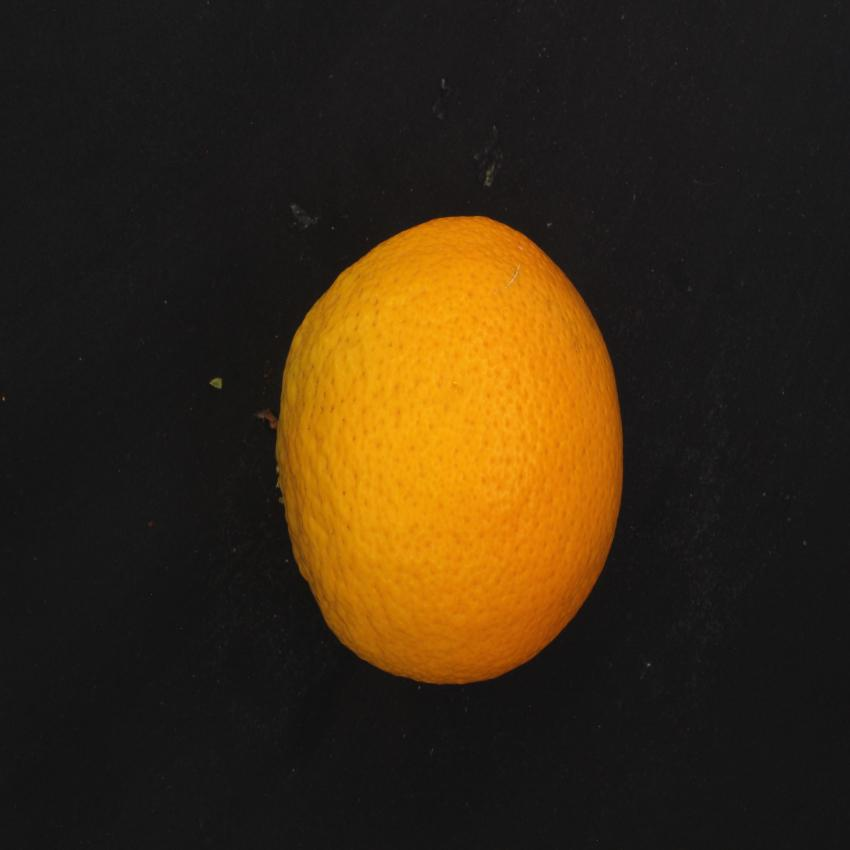Buen estado: (266, 204, 634, 700)
